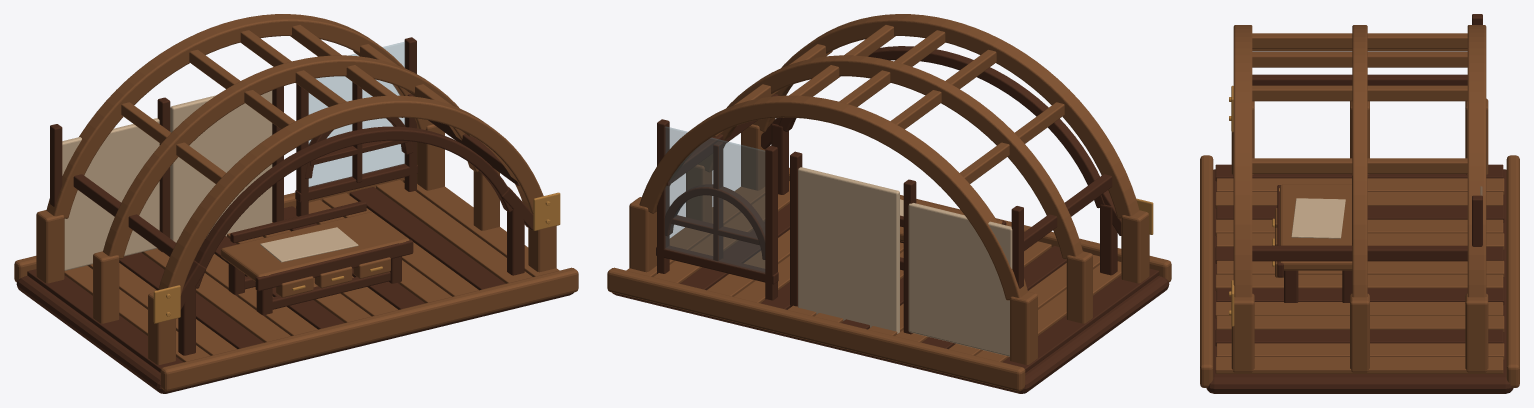
File: opening-studio-shell.glb
3 views of the same model, side by side, from view 1: azimuth 30°, elevation 25°; view 2: azimuth 150°, elevation 25°; view 3: azimuth 270°, elevation 25° (orthographic). The views are drawn at different scales.
Visible parts, largest first — view 1: wood__main_arch_01, wood__platform_edge_front, wood__main_arch_03, wood__main_arch_02, plaster__rear_panel_left, plaster__rear_panel_center, wood__inner_front_arch, wood__workbench_top, wood__platform_core, wood__floor_plank_13, glass__rear_window, wood__floor_plank_14 (+49 smaller); view 2: plaster__rear_panel_center, plaster__rear_panel_left, glass__rear_window, wood__platform_edge_back, wood__main_arch_03, wood__main_arch_01, wood__main_arch_02, wood__platform_core, wood__inner_front_arch, wood__floor_plank_01, wood__arch_post_01_01, wood__rear_grid_63 (+32 smaller); view 3: wood__platform_core, wood__main_arch_01, wood__main_arch_03, wood__main_arch_02, wood__floor_plank_15, wood__roof_purlin_01, wood__roof_purlin_03, wood__floor_plank_12, wood__floor_plank_13, wood__workbench_top, wood__roof_purlin_02, wood__roof_purlin_04 (+28 smaller).
Boxes of the visible parts, box(x1,y1,x2,y2) form: wood__main_arch_01: box(158, 95, 543, 296); wood__platform_edge_front: box(160, 267, 578, 391); wood__main_arch_03: box(46, 14, 432, 218); wood__main_arch_02: box(103, 55, 478, 258); plaster__rear_panel_left: box(62, 118, 159, 270); plaster__rear_panel_center: box(170, 90, 272, 242); wood__inner_front_arch: box(194, 126, 512, 288); wood__workbench_top: box(220, 212, 409, 281); wood__platform_core: box(16, 276, 573, 393); wood__floor_plank_13: box(349, 187, 505, 290); glass__rear_window: box(309, 42, 404, 187); wood__floor_plank_14: box(376, 180, 532, 283); plaster__rear_panel_center: box(798, 167, 899, 333); plaster__rear_panel_left: box(908, 203, 1012, 356); glass__rear_window: box(665, 126, 764, 273); wood__platform_edge_back: box(607, 267, 1025, 391); wood__main_arch_03: box(639, 95, 1027, 300); wood__main_arch_01: box(753, 14, 1139, 218); wood__main_arch_02: box(698, 55, 1082, 258); wood__platform_core: box(612, 276, 1169, 393); wood__inner_front_arch: box(778, 46, 1104, 208); wood__floor_plank_01: box(1002, 268, 1159, 372); wood__arch_post_01_01: box(1121, 210, 1149, 283); wood__rear_grid_63: box(765, 145, 777, 300); wood__platform_core: box(1206, 169, 1513, 393); wood__main_arch_01: box(1233, 25, 1252, 297); wood__main_arch_03: box(1467, 25, 1486, 297); wood__main_arch_02: box(1352, 25, 1367, 297); wood__floor_plank_15: box(1215, 357, 1503, 373); wood__roof_purlin_01: box(1252, 245, 1467, 261); wood__roof_purlin_03: box(1252, 85, 1467, 101); wood__floor_plank_12: box(1216, 315, 1504, 332); wood__floor_plank_13: box(1215, 329, 1503, 346); wood__workbench_top: box(1280, 184, 1352, 270); wood__roof_purlin_02: box(1252, 158, 1467, 173); wood__roof_purlin_04: box(1252, 52, 1467, 67).
Bounding box in the file's own units: 9.2 × 4.83 × 5.8.
